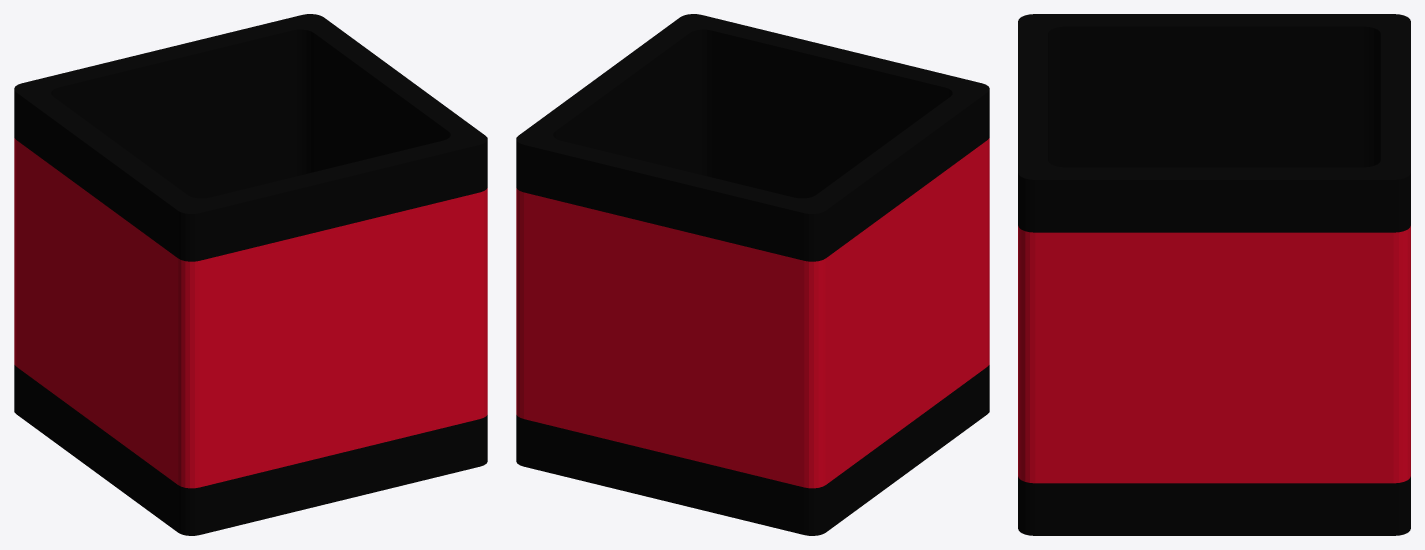
The model's file is kotak pensil_Scene.fbx.
The picture shows the model from 3 angles, left to right: view 1: azimuth 30°, elevation 25°; view 2: azimuth 150°, elevation 25°; view 3: azimuth 270°, elevation 25°; orthographic projection. The views are drawn at different scales.
Parts seen in each view (by area): view 1: Cube.031; view 2: Cube.031; view 3: Cube.031.
Boxes of the visible parts, x1,y1,x2,y2 form: Cube.031: (14, 14, 487, 535); Cube.031: (516, 14, 989, 535); Cube.031: (1018, 14, 1410, 535).
Size of the model in its own units: 21.73 by 21.73 by 21.73.
